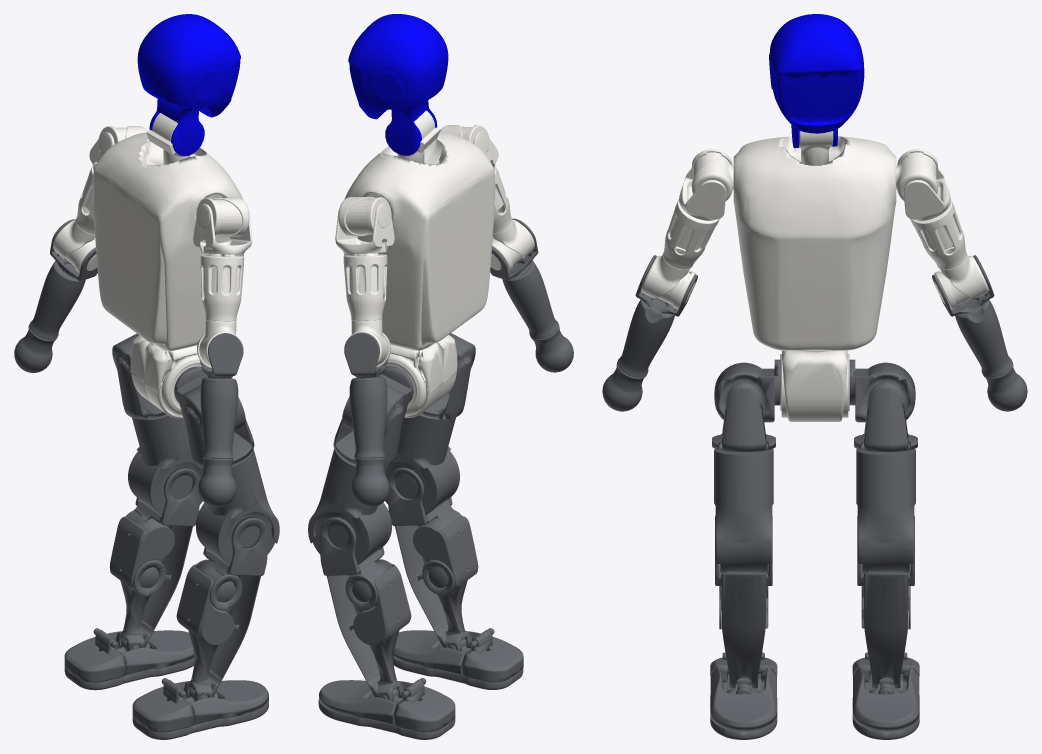
Rendered from pond-t1.glb.
3 views of the same model, side by side, from view 1: azimuth 30°, elevation 25°; view 2: azimuth 150°, elevation 25°; view 3: azimuth 270°, elevation 25° (orthographic). The views are drawn at different scales.
Size of the model in its own units: 0.228 by 1.15 by 0.6344.
